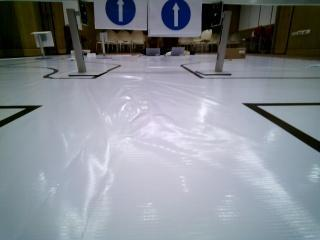straight: (146, 0, 204, 36), (94, 0, 147, 30)
